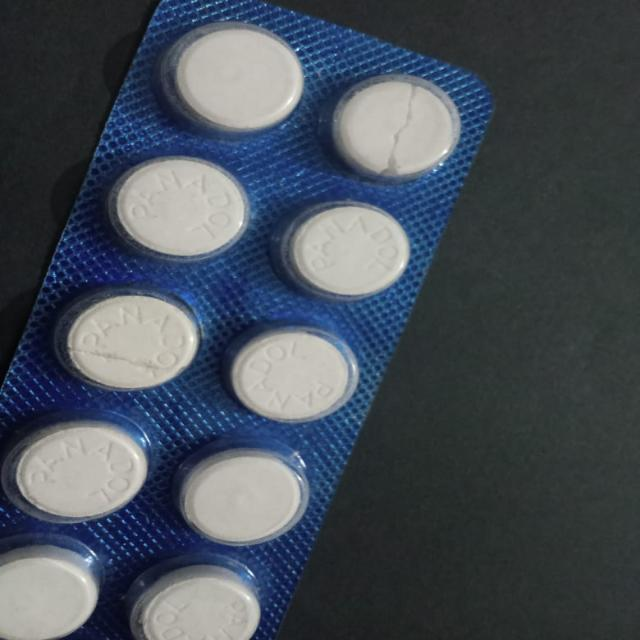defect: (321, 69, 474, 186), (54, 282, 207, 398)
